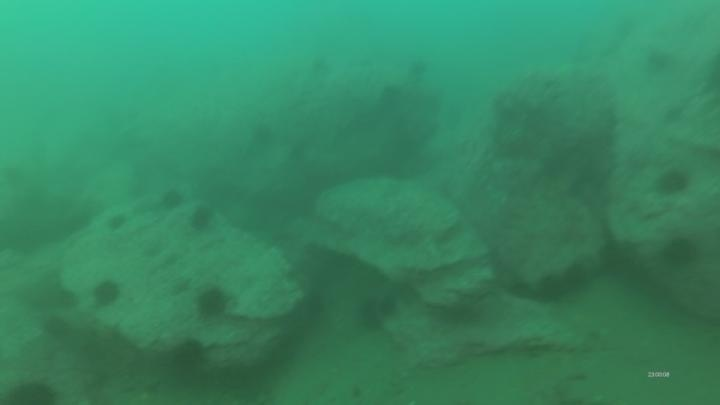echinus: (167, 338, 209, 381), (4, 377, 60, 405), (660, 234, 701, 270), (354, 294, 390, 335), (193, 284, 232, 321), (652, 166, 692, 199), (533, 271, 570, 305), (90, 277, 124, 310), (560, 261, 592, 293), (40, 313, 73, 343), (643, 46, 676, 76), (187, 203, 217, 234), (248, 120, 278, 151), (375, 292, 401, 322), (158, 186, 186, 213), (405, 56, 431, 82), (104, 211, 130, 234)
